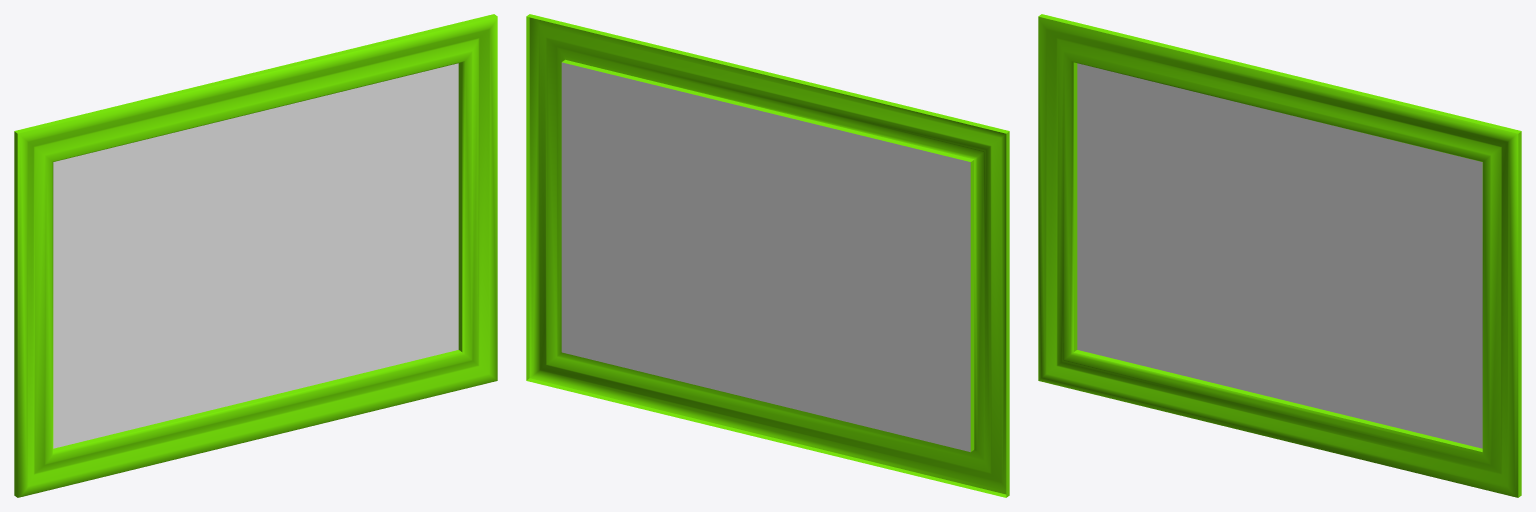
File: painting_20_mesh.fbx
3 views of the same model, side by side, from view 1: azimuth 30°, elevation 25°; view 2: azimuth 150°, elevation 25°; view 3: azimuth 330°, elevation 25° (orthographic).
Visible parts, largest first — view 1: painting; view 2: painting; view 3: painting.
Boxes of the visible parts, left/top/right/bottom form: painting: left=14, top=14, right=497, bottom=497; painting: left=526, top=14, right=1009, bottom=497; painting: left=1038, top=14, right=1521, bottom=497.
Size of the model in its own units: 1.17 by 0.8503 by 0.02.
